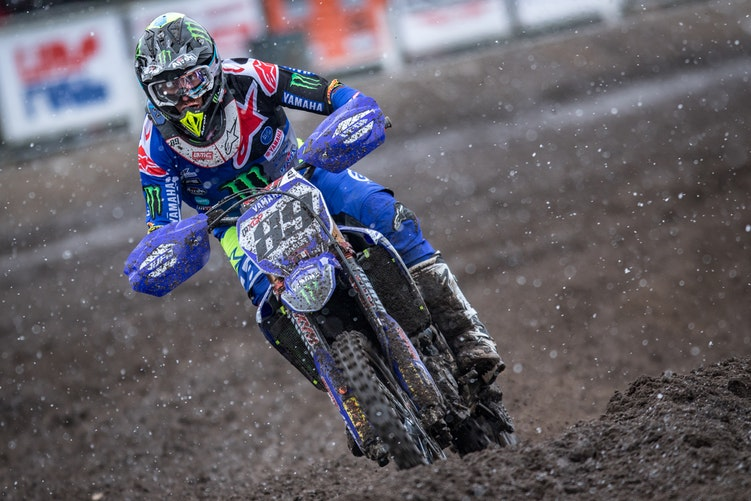helmet: (120, 14, 234, 136)
